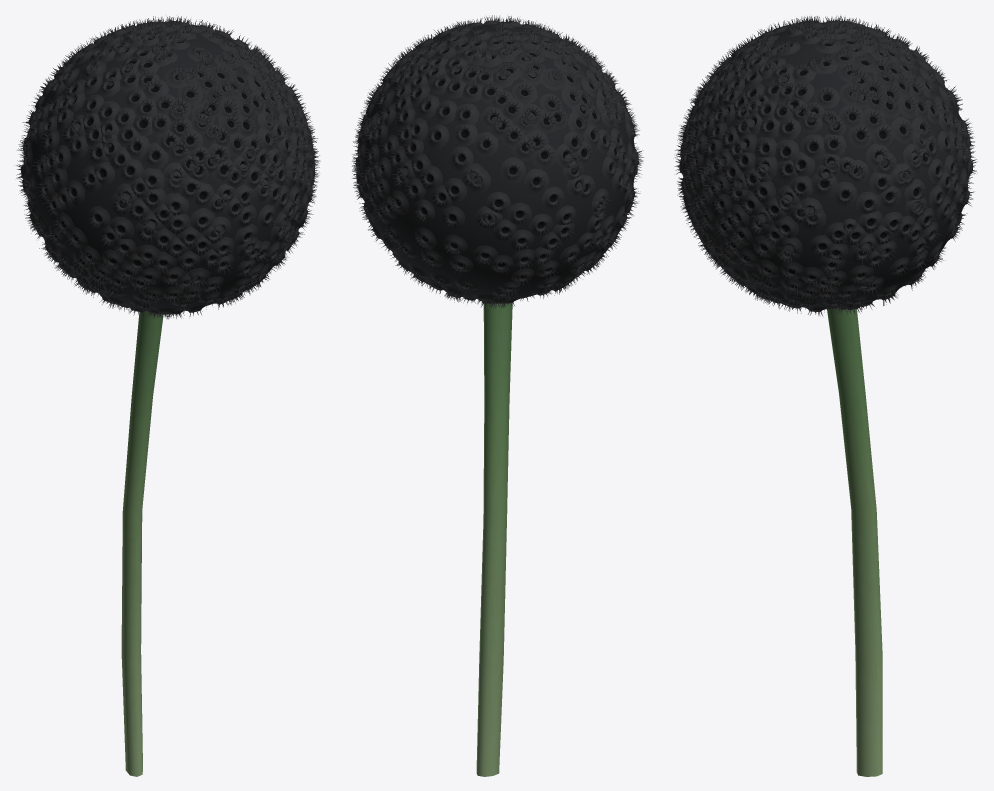
File: globe-thistle.glb
3 renders of one model, left to right at view 1: azimuth 30°, elevation 25°; view 2: azimuth 150°, elevation 25°; view 3: azimuth 270°, elevation 25°, orthographic. The views are drawn at different scales.
Parts seen in each view (by area): view 1: Chives Solo.077, Chives Solo.078; view 2: Chives Solo.078, Chives Solo.077, GlobeThistle_Hole_495, GlobeThistle_Hole_470; view 3: Chives Solo.077, Chives Solo.078.
Part boxes in pixels (x1=…): Chives Solo.077: x1=121, y1=310, x2=163, y2=776; Chives Solo.078: x1=25, y1=31, x2=309, y2=310; Chives Solo.078: x1=360, y1=24, x2=635, y2=299; Chives Solo.077: x1=476, y1=303, x2=512, y2=776; GlobeThistle_Hole_495: x1=500, y1=157, x2=525, y2=183; GlobeThistle_Hole_470: x1=524, y1=168, x2=549, y2=194; Chives Solo.077: x1=827, y1=308, x2=882, y2=776; Chives Solo.078: x1=684, y1=23, x2=967, y2=309.
Size of what is drawn, in the model's own units: 0.0298 by 0.0811 by 0.0299.
4 materials, 1 textured.
